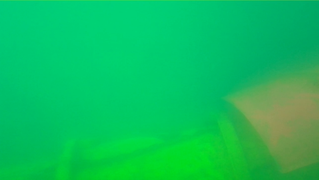leak: (220, 65, 319, 174)
pipe: (1, 109, 319, 180)
